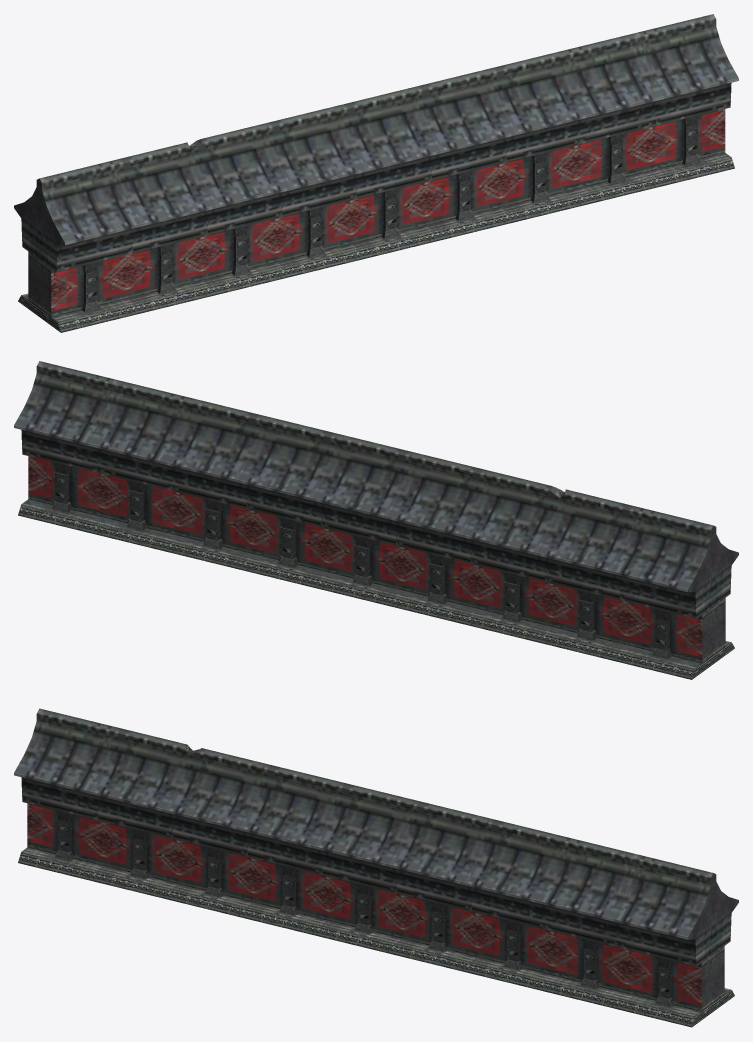
The model's file is 3st_wall_001.fbx.
3 views of the same model, one above another, from view 1: azimuth 30°, elevation 25°; view 2: azimuth 150°, elevation 25°; view 3: azimuth 330°, elevation 25° (orthographic).
Visible parts, largest first — view 1: 5st_wall_001; view 2: 5st_wall_001; view 3: 5st_wall_001.
Part boxes in pixels (box(x1,y1,x2,y2)): 5st_wall_001: box(14, 14, 738, 332); 5st_wall_001: box(14, 361, 738, 679); 5st_wall_001: box(14, 708, 738, 1027).
Bounding box in the file's own units: 12.58 × 2.47 × 1.65.
